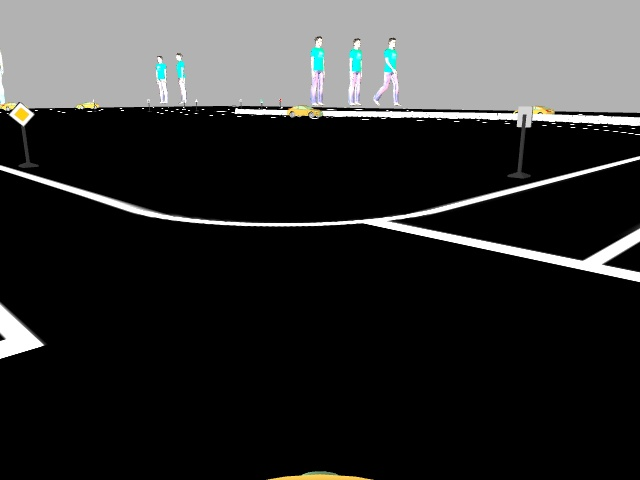Priority: (8, 100, 30, 123)
